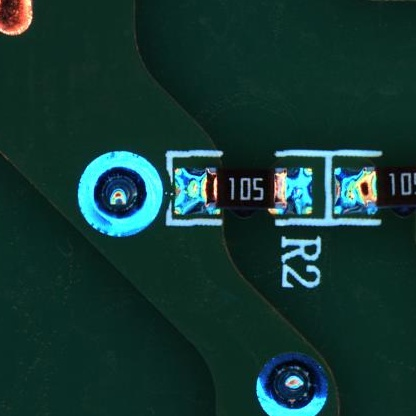spot: (76, 149, 164, 240), (255, 351, 331, 416)
